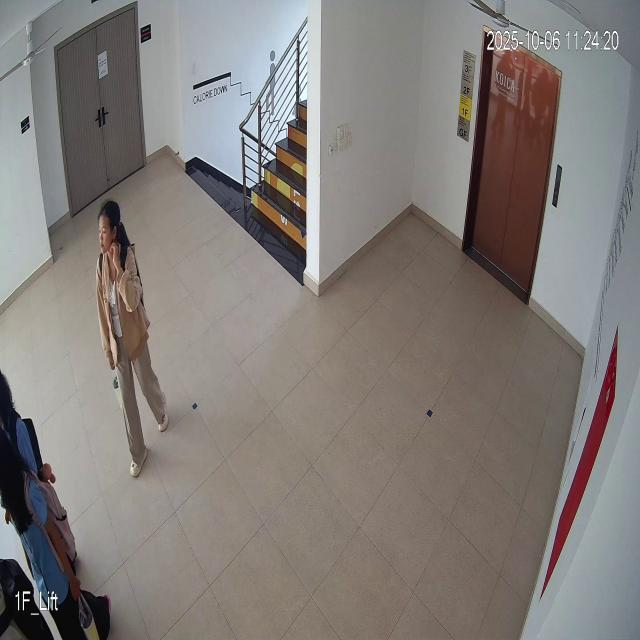face: (93, 199, 123, 258)
